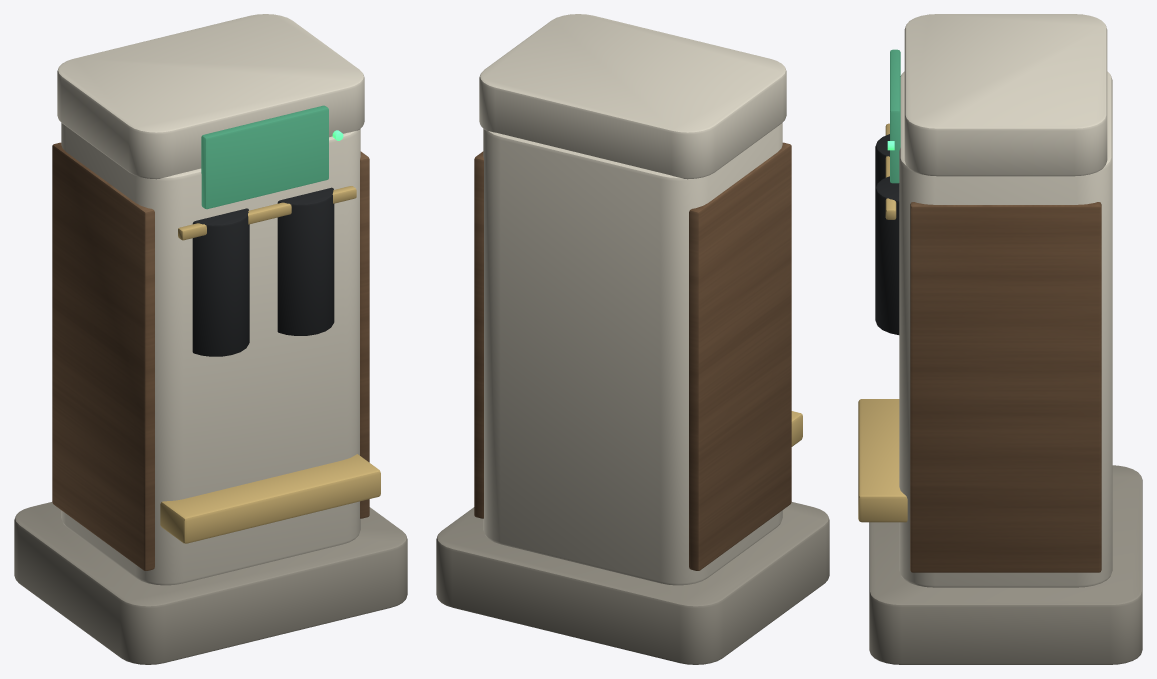
Rendered from club_cleaner_country_club.glb.
3 views of the same model, side by side, from view 1: azimuth 30°, elevation 25°; view 2: azimuth 150°, elevation 25°; view 3: azimuth 270°, elevation 25° (orthographic).
Visible parts, largest first — view 1: ClubCleaner_Cabinet, ClubCleaner_WalnutSide_-1, ClubCleaner_Base, ClubCleaner_Lid, ClubCleaner_ControlPanel, ClubCleaner_DripTray, ClubCleaner_Brush_1, ClubCleaner_Brush_2, ClubCleaner_WalnutSide_1, ClubCleaner_BrassRail; view 2: ClubCleaner_Cabinet, ClubCleaner_WalnutSide_-1, ClubCleaner_Lid, ClubCleaner_Base, ClubCleaner_WalnutSide_1; view 3: ClubCleaner_WalnutSide_1, ClubCleaner_Lid, ClubCleaner_Base, ClubCleaner_Cabinet, ClubCleaner_DripTray, ClubCleaner_Brush_2, ClubCleaner_ControlPanel, ClubCleaner_Brush_1.
Part boxes in pixels (<box>): ClubCleaner_Cabinet: <box>61,123,360,585</box>; ClubCleaner_WalnutSide_-1: <box>52,142,154,570</box>; ClubCleaner_Base: <box>14,502,407,664</box>; ClubCleaner_Lid: <box>57,14,364,179</box>; ClubCleaner_ControlPanel: <box>201,105,328,209</box>; ClubCleaner_DripTray: <box>160,454,380,543</box>; ClubCleaner_Brush_1: <box>192,208,249,356</box>; ClubCleaner_Brush_2: <box>277,187,334,335</box>; ClubCleaner_WalnutSide_1: <box>360,151,369,518</box>; ClubCleaner_BrassRail: <box>178,186,356,240</box>; ClubCleaner_Cabinet: <box>483,123,782,585</box>; ClubCleaner_WalnutSide_-1: <box>689,142,791,570</box>; ClubCleaner_Lid: <box>479,14,786,179</box>; ClubCleaner_Base: <box>436,502,829,664</box>; ClubCleaner_WalnutSide_1: <box>474,151,483,518</box>; ClubCleaner_WalnutSide_1: <box>910,202,1101,572</box>; ClubCleaner_Lid: <box>904,14,1107,176</box>; ClubCleaner_Base: <box>869,465,1142,664</box>; ClubCleaner_Cabinet: <box>899,71,1112,587</box>; ClubCleaner_DripTray: <box>858,399,907,522</box>; ClubCleaner_Brush_2: <box>875,176,899,334</box>; ClubCleaner_ControlPanel: <box>890,49,900,183</box>; ClubCleaner_Brush_1: <box>875,134,889,188</box>.
Size of what is drawn, in the model's own units: 0.56 by 0.9747 by 0.4784.
Materials: 7 (1 with a texture image).
